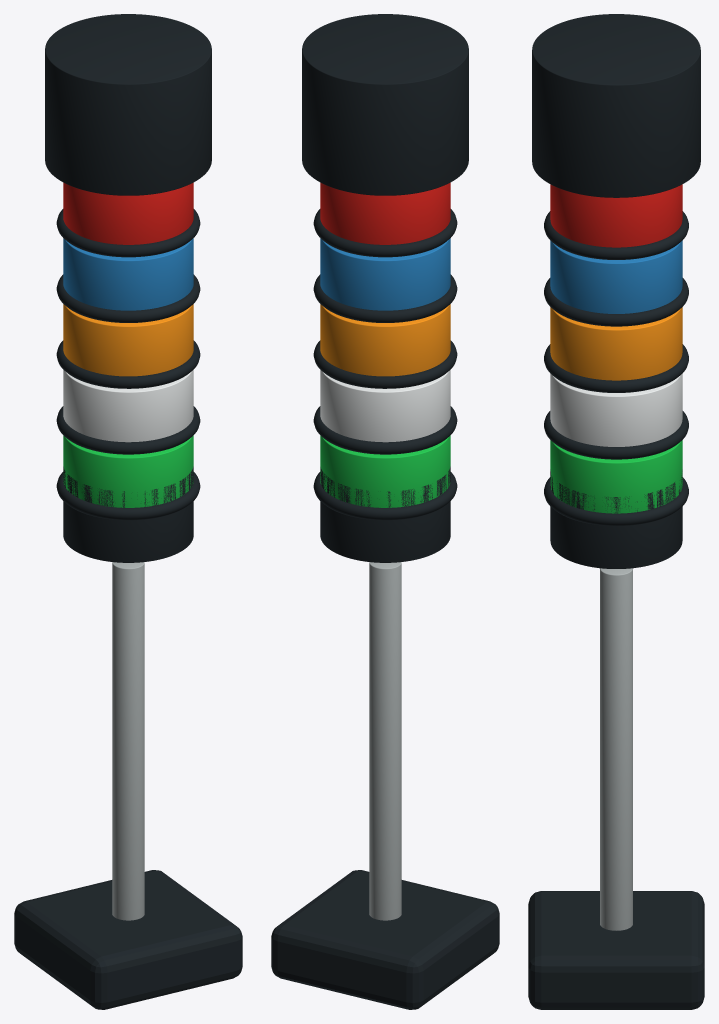
Rendered from five_tier_stacklight_siren.glb.
The picture shows the model from 3 angles, left to right: view 1: azimuth 30°, elevation 25°; view 2: azimuth 150°, elevation 25°; view 3: azimuth 270°, elevation 25°; orthographic projection.
Visible parts, largest first — view 1: SOUNDER, LIGHT_base, LIGHT_pole, LENS_1, LENS_3, LENS_2, LENS_0, LIGHT_housing, LENS_4, SEPARATOR_1, SEPARATOR_0, SEPARATOR_4 (+2 smaller); view 2: SOUNDER, LIGHT_base, LIGHT_pole, LENS_1, LENS_3, LENS_2, LENS_0, LIGHT_housing, LENS_4, SEPARATOR_1, SEPARATOR_0, SEPARATOR_4 (+2 smaller); view 3: SOUNDER, LIGHT_base, LIGHT_pole, LENS_2, LENS_1, LENS_3, LENS_0, LIGHT_housing, LENS_4, SEPARATOR_1, SEPARATOR_3, SEPARATOR_0 (+2 smaller).
Part boxes in pixels (<box>): SOUNDER: <box>45,14,211,195</box>; LIGHT_base: <box>14,870,242,1009</box>; LIGHT_pole: <box>112,562,144,920</box>; LENS_1: <box>63,370,193,442</box>; LENS_3: <box>63,238,193,310</box>; LENS_2: <box>63,304,193,376</box>; LENS_0: <box>63,435,193,507</box>; LIGHT_housing: <box>63,466,193,562</box>; LENS_4: <box>63,182,193,244</box>; SEPARATOR_1: <box>56,406,200,454</box>; SEPARATOR_0: <box>56,472,200,520</box>; SEPARATOR_4: <box>56,209,200,257</box>; SOUNDER: <box>302,14,468,195</box>; LIGHT_base: <box>271,870,499,1009</box>; LIGHT_pole: <box>369,562,401,920</box>; LENS_1: <box>320,370,450,442</box>; LENS_3: <box>320,238,450,310</box>; LENS_2: <box>320,304,450,376</box>; LENS_0: <box>320,435,450,507</box>; LIGHT_housing: <box>320,466,450,562</box>; LENS_4: <box>320,182,450,244</box>; SEPARATOR_1: <box>313,406,457,454</box>; SEPARATOR_0: <box>313,472,457,520</box>; SEPARATOR_4: <box>313,209,457,257</box>; SOUNDER: <box>532,14,700,197</box>; LIGHT_base: <box>528,891,704,1009</box>; LIGHT_pole: <box>600,568,632,930</box>; LENS_2: <box>550,307,682,380</box>; LENS_1: <box>550,373,682,446</box>; LENS_3: <box>550,240,682,313</box>; LENS_0: <box>550,440,682,513</box>; LIGHT_housing: <box>550,469,682,568</box>; LENS_4: <box>550,184,682,247</box>; SEPARATOR_1: <box>544,411,688,459</box>; SEPARATOR_3: <box>544,278,688,326</box>; SEPARATOR_0: <box>544,477,688,525</box>.
Size of the model in its own units: 0.48 by 2.79 by 0.48.
